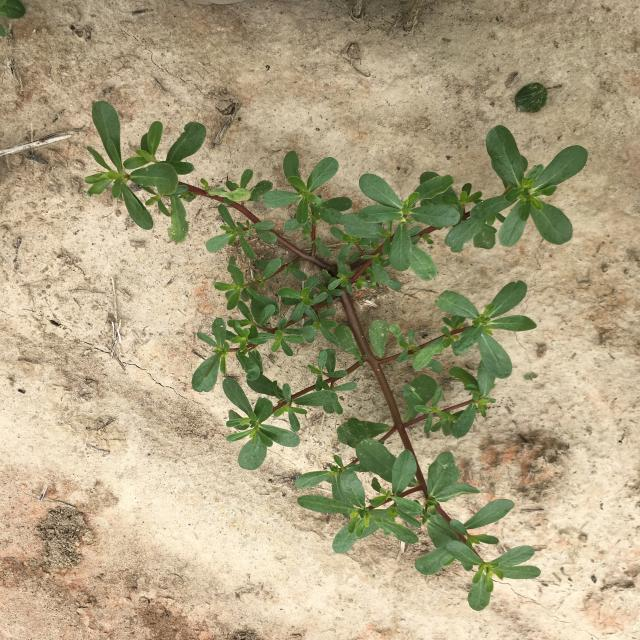Purslane: (84, 99, 588, 612)
